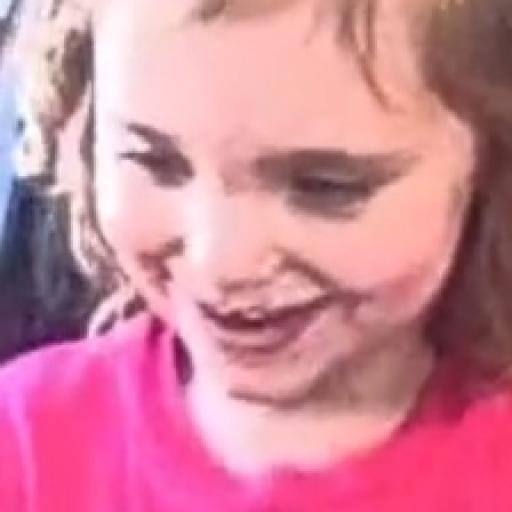Autism: (57, 2, 512, 466)
